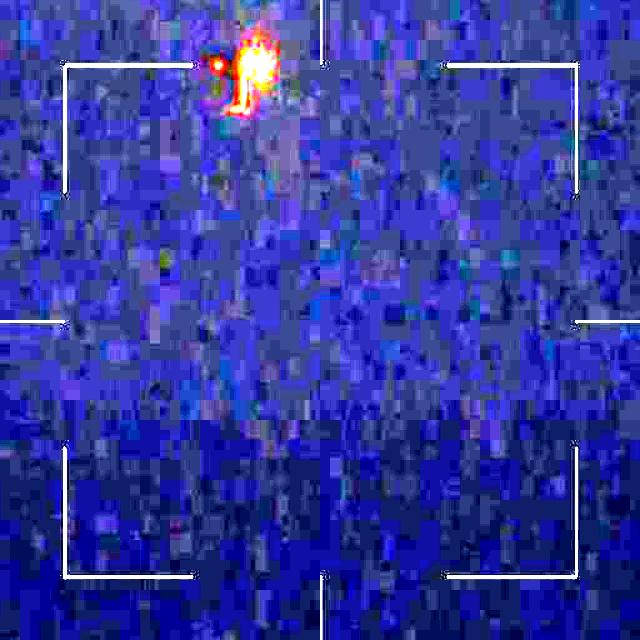bird: (200, 41, 274, 130)
